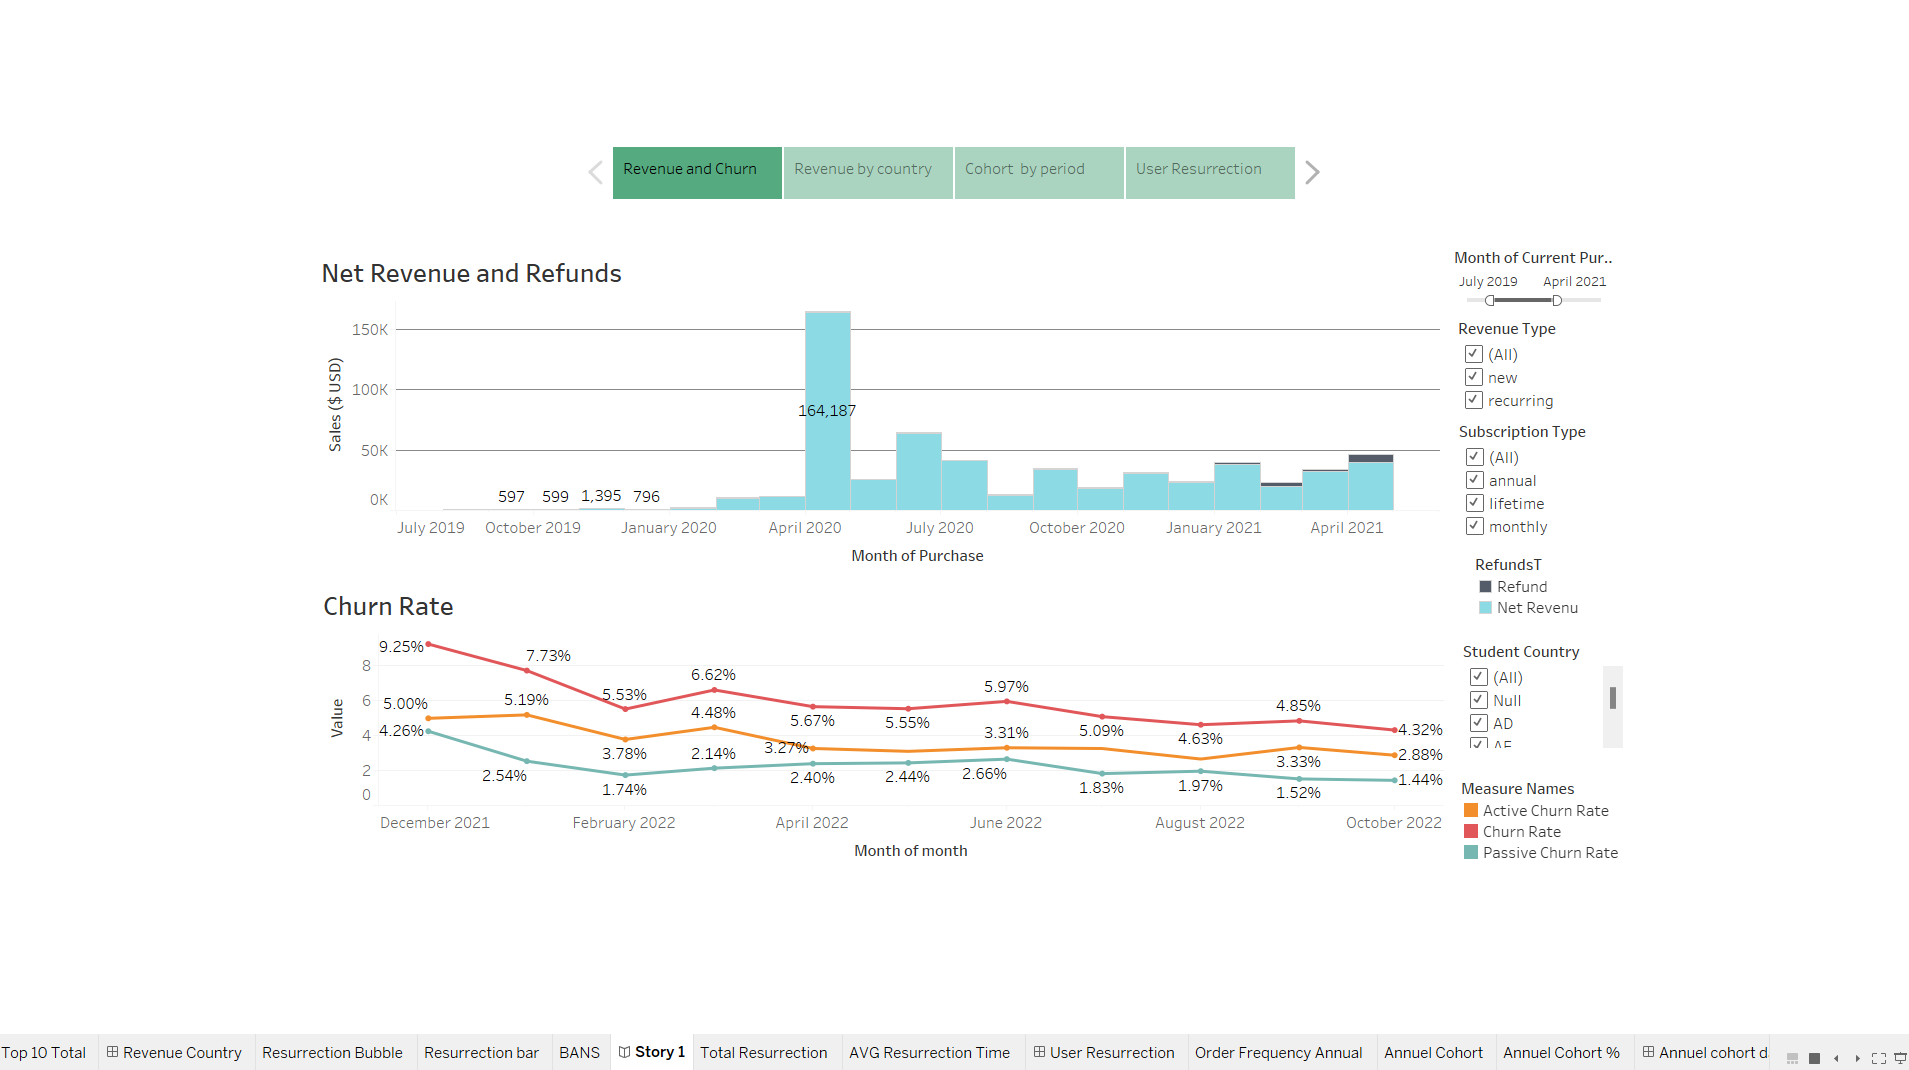

This screenshot's page, from the dashboard's own definition file:
{"tool":"tableau","page":{"name":"Revenue and Churn","canvas":[1350,669],"ordinal":2},"visuals":[{"type":"filter","title":"Revenue vs Refund","param":"[federated.0zq1d7217pxqgw12beexu07l0qtv].[tmn:current_purchase_date:qk]","box":[1175,28,160,65]},{"type":"worksheet","title":"Revenue vs Refund","mark":"Bar","rows":["price"],"cols":["current_purchase_date"],"box":[38,32,1123,322]},{"type":"filter","title":"Revenue vs Refund","param":"[federated.0zq1d7217pxqgw12beexu07l0qtv].[none:revenue_type:nk]","box":[1179,99,160,97]},{"type":"filter","title":"Revenue vs Refund","param":"[federated.0zq1d7217pxqgw12beexu07l0qtv].[none:subscription_type:nk]","box":[1180,202,160,120]},{"type":"legend","title":"Revenue vs Refund","param":"[federated.0zq1d7217pxqgw12beexu07l0qtv].[none:Calculation_765049036930420736:nk","box":[1196,335,140,64]},{"type":"worksheet","title":"Churn rate","mark":"Automatic","cols":["month"],"box":[40,365,1125,284]},{"type":"filter","title":"Revenue vs Refund","param":"[federated.0zq1d7217pxqgw12beexu07l0qtv].[none:student_country:nk]","box":[1184,422,160,107]},{"type":"legend","title":"Churn rate","param":"[federated.1dsqckg1e9oo5p10gc7s31lu792f].[:Measure Names]","box":[1182,559,163,85]}]}

Visuals, with their boxes on the page's 1350x669 design canvas (x1, y1, x2, y2). These are canvas units, not pixel positions in the 1909x1070 screenshot, which may show the page scaled, cropped or inside an application window:
"Revenue vs Refund" filter: BBox(1175, 28, 1335, 93)
"Revenue vs Refund" worksheet (Bar marks): BBox(38, 32, 1161, 354)
"Revenue vs Refund" filter: BBox(1179, 99, 1339, 196)
"Revenue vs Refund" filter: BBox(1180, 202, 1340, 322)
"Revenue vs Refund" legend: BBox(1196, 335, 1336, 399)
"Churn rate" worksheet: BBox(40, 365, 1165, 649)
"Revenue vs Refund" filter: BBox(1184, 422, 1344, 529)
"Churn rate" legend: BBox(1182, 559, 1345, 644)
